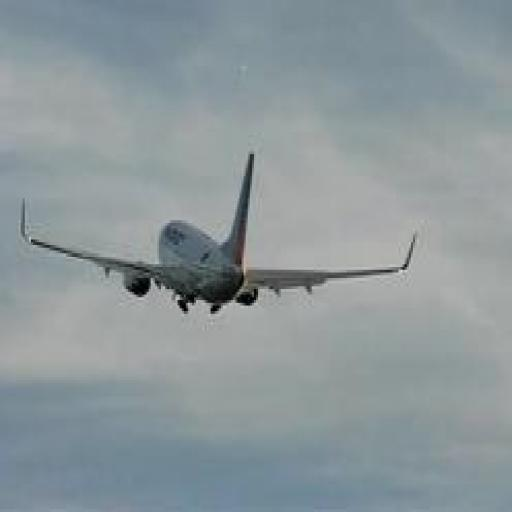aircraft: (19, 152, 419, 318)
